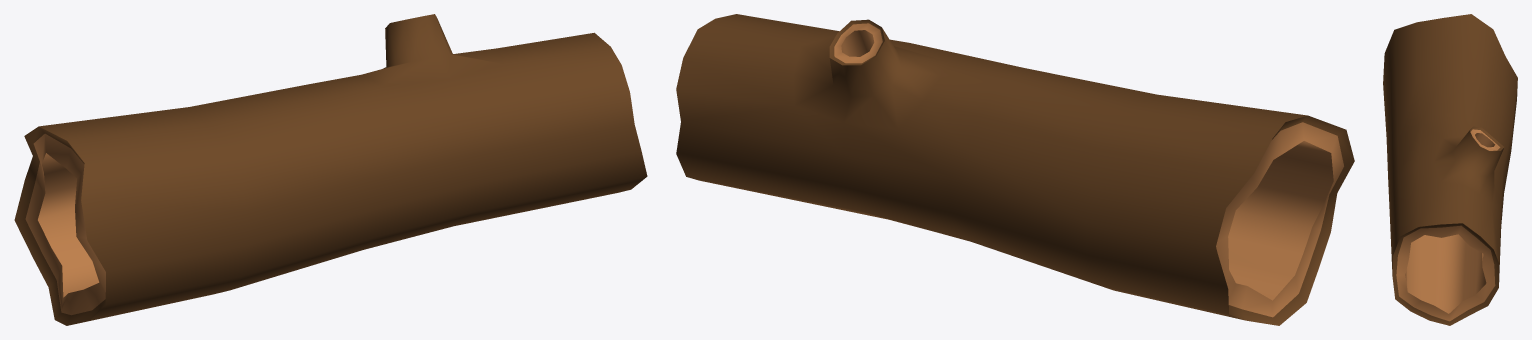
Rendered from Tree_Tunnel_1.glb.
3 renders of one model, left to right at view 1: azimuth 30°, elevation 25°; view 2: azimuth 150°, elevation 25°; view 3: azimuth 270°, elevation 25°, orthographic. The views are drawn at different scales.
Parts seen in each view (by area): view 1: Tree_Tunnel_1; view 2: Tree_Tunnel_1; view 3: Tree_Tunnel_1.
Boxes of the visible parts, x1,y1,x2,y2 form: Tree_Tunnel_1: (14,14,647,325); Tree_Tunnel_1: (676,14,1354,325); Tree_Tunnel_1: (1383,14,1517,325).
Size of the model in its own units: 2.11 by 0.7371 by 0.6317.
Materials: 1 (1 with a texture image).
